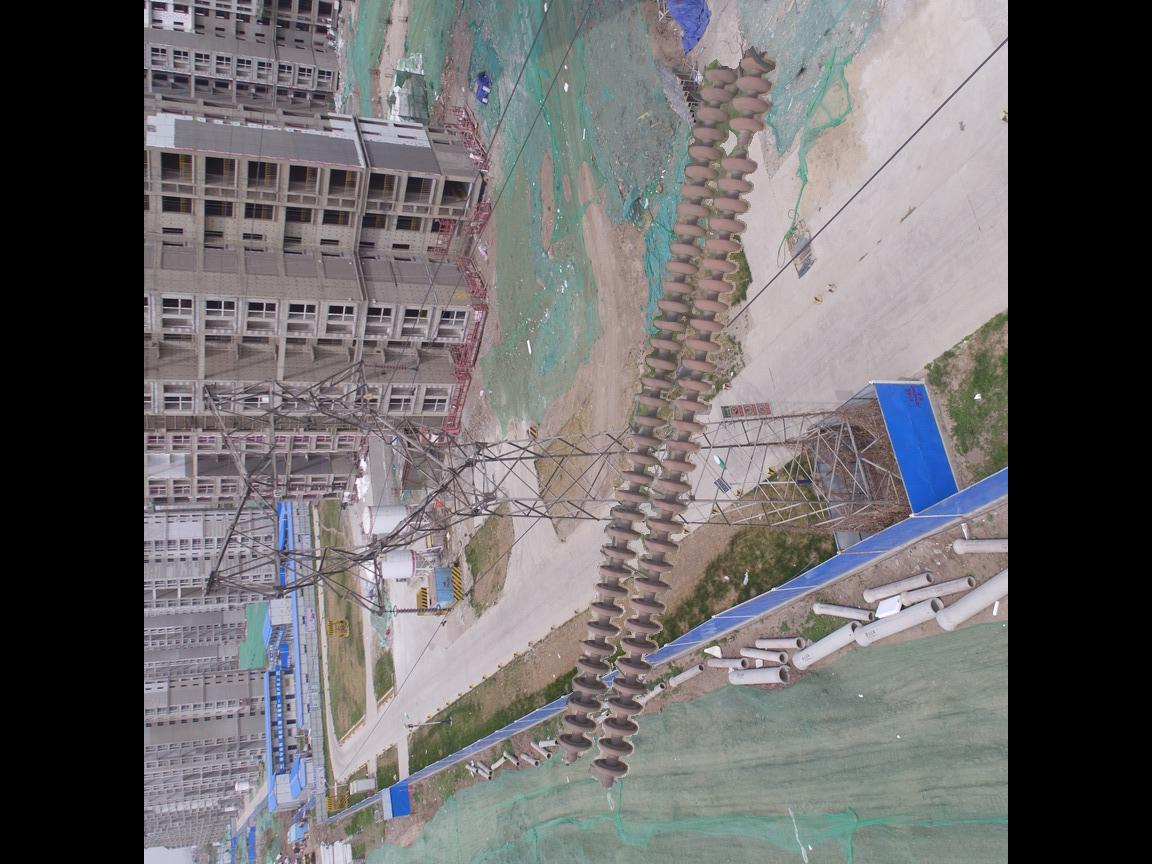insulator: (555, 46, 779, 786)
insulator_stringdrop: (717, 115, 766, 177)
